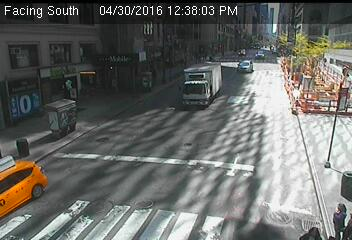neg: (328, 71, 349, 99), (178, 132, 195, 155), (55, 111, 69, 129), (293, 96, 306, 114), (183, 71, 196, 88), (14, 138, 26, 155), (36, 166, 45, 177)
pos: (326, 200, 351, 235), (308, 226, 317, 239)
